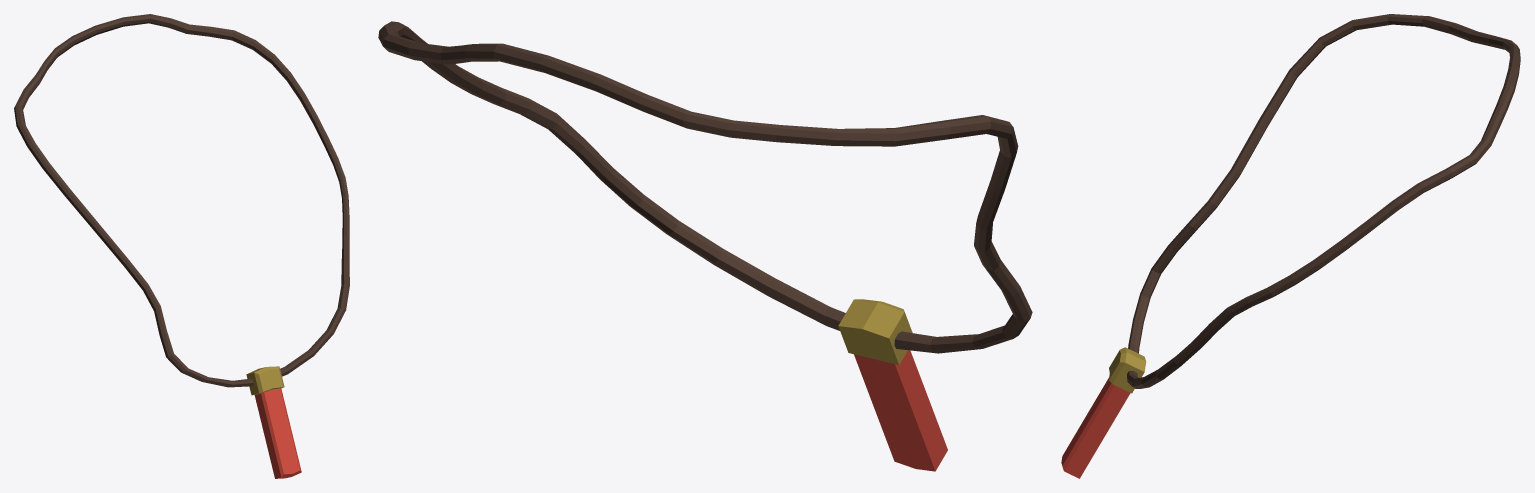
Rendered from Necklace2.glb.
3 renders of one model, left to right at view 1: azimuth 30°, elevation 25°; view 2: azimuth 150°, elevation 25°; view 3: azimuth 270°, elevation 25°, orthographic. The views are drawn at different scales.
Parts seen in each view (by area): view 1: Necklace2_Plane.002; view 2: Necklace2_Plane.002; view 3: Necklace2_Plane.002.
Part boxes in pixels (box(x1,y1,x2,y2)): Necklace2_Plane.002: box(14, 14, 349, 478); Necklace2_Plane.002: box(378, 21, 1032, 471); Necklace2_Plane.002: box(1061, 14, 1520, 478).
Bounding box in the file's own units: 0.9101 × 1 × 1.01.
